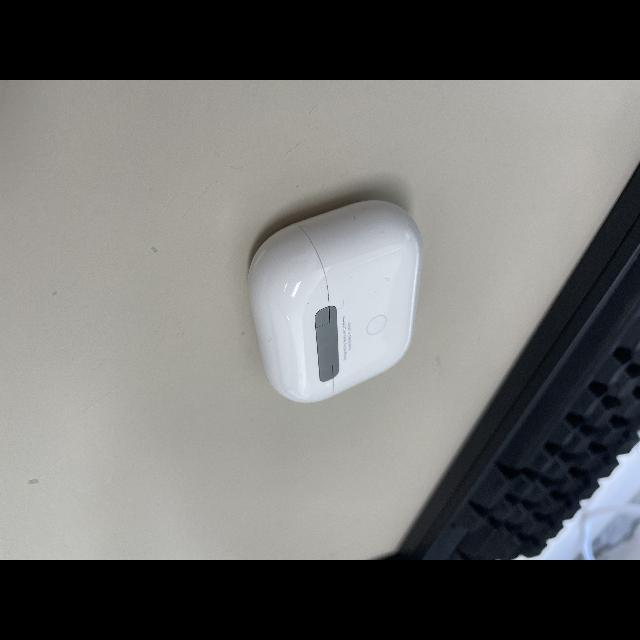airpod3: (247, 194, 427, 402)
